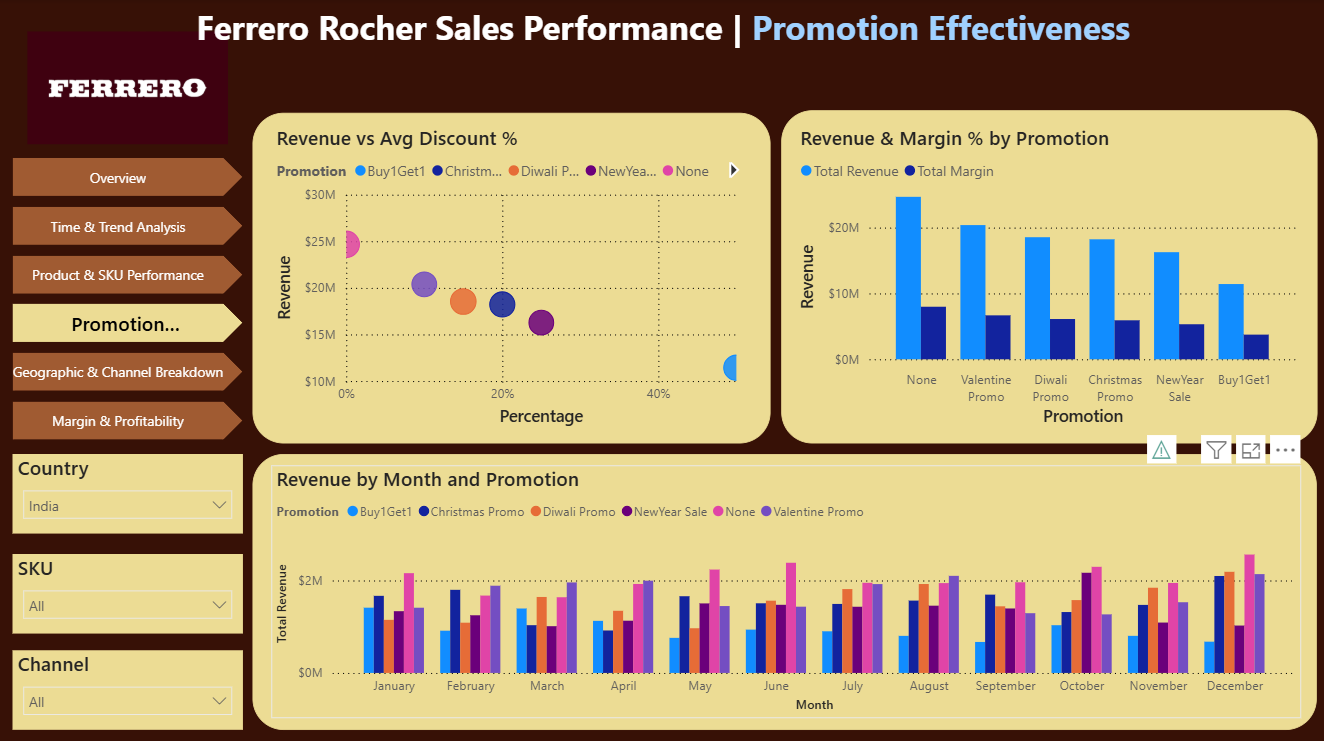

What the dashboard file says about the page in this screenshot:
{"tool":"powerbi","page":{"name":"Promotion Effectiveness","canvas":[1280,720],"ordinal":3},"visuals":[{"type":"shape","box":[243.7,109.8,500,319.4],"z":0},{"type":"shape","box":[753.8,107.3,517.7,322],"z":1000},{"type":"shape","box":[243.7,438.9,1027.6,266.4],"z":2000},{"type":"slicer","title":"SKU","fields":{"Values":["Sales.SKU"]},"box":[12.6,535.3,222.2,77],"z":3000},{"type":"slicer","title":"Country","fields":{"Values":["Sales.Country"]},"box":[12.6,439.4,222.2,77],"z":4000},{"type":"slicer","title":"Channel","fields":{"Values":["Sales.Channel"]},"box":[12.6,628.8,222.2,77],"z":5000},{"type":"image","box":[12.6,31.6,222.2,108.6],"z":6000},{"type":"pageNavigator","box":[12.6,152.8,222.2,276.5],"z":7000},{"type":"textbox","box":[0,0,1280.3,53],"z":8000},{"type":"scatterChart","title":"Revenue vs Avg Discount %","fields":{"X":["Sales.Average Discount Percentage"],"Size":["Sales.Total Unit Sold"],"Series":["Sales.Promotion"],"Y":["Sales.Total Revenue"]},"box":[261.8,121.1,466.1,296.6],"z":9000},{"type":"clusteredColumnChart","title":"Revenue & Margin % by Promotion","fields":{"Category":["Sales.Promotion"],"Y":["Sales.Total Revenue","Sales.Total Margin"]},"box":[767.3,121.1,488.8,296.6],"z":10000},{"type":"clusteredColumnChart","title":"Revenue by Month and Promotion","fields":{"Category":["Dimdate.Date.Variation.Date Hierarchy.Month"],"Y":["Sales.Total Revenue"],"Series":["Sales.Promotion"]},"box":[261.8,449.5,994.3,243.7],"z":11000}]}

Visuals, with their boxes in screenshot pixels (x1, y1, x2, y2), scaled from the page's 1280x720 canvas onto the 1324x741 screenshot:
shape: l=252, t=113, r=769, b=442
shape: l=780, t=110, r=1315, b=442
shape: l=252, t=452, r=1315, b=726
"SKU" slicer: l=13, t=551, r=243, b=630
"Country" slicer: l=13, t=452, r=243, b=531
"Channel" slicer: l=13, t=647, r=243, b=726
image: l=13, t=33, r=243, b=144
pageNavigator: l=13, t=157, r=243, b=442
textbox: l=0, t=0, r=1323, b=55
"Revenue vs Avg Discount %" scatterChart: l=271, t=125, r=753, b=430
"Revenue & Margin % by Promotion" clusteredColumnChart: l=794, t=125, r=1299, b=430
"Revenue by Month and Promotion" clusteredColumnChart: l=271, t=463, r=1299, b=713
